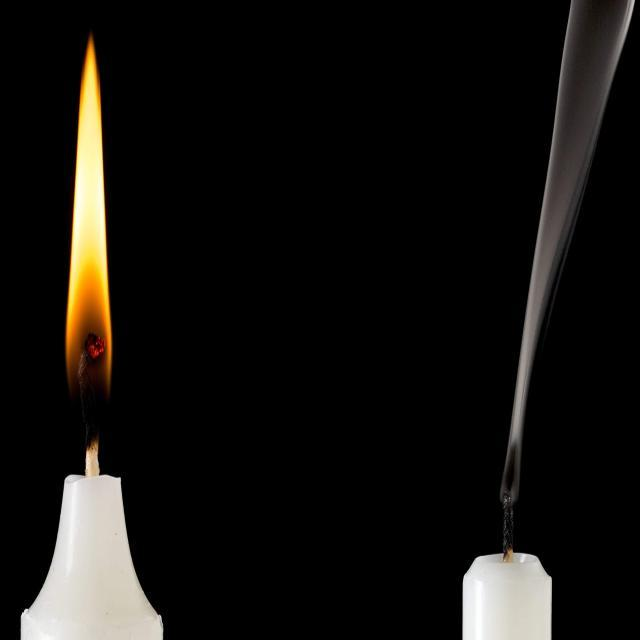Fire: (64, 31, 112, 431)
Smoke: (500, 0, 635, 501)
